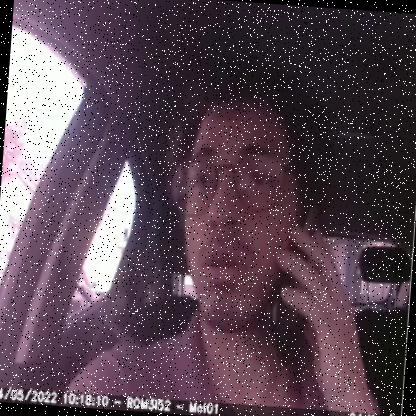phone: (268, 200, 334, 373)
